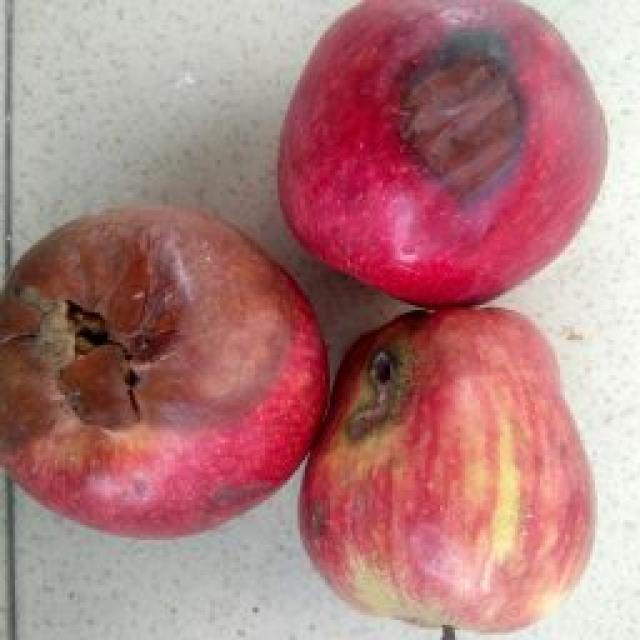Bad_Apple: (0, 209, 326, 537), (279, 0, 604, 306), (301, 309, 594, 631)
